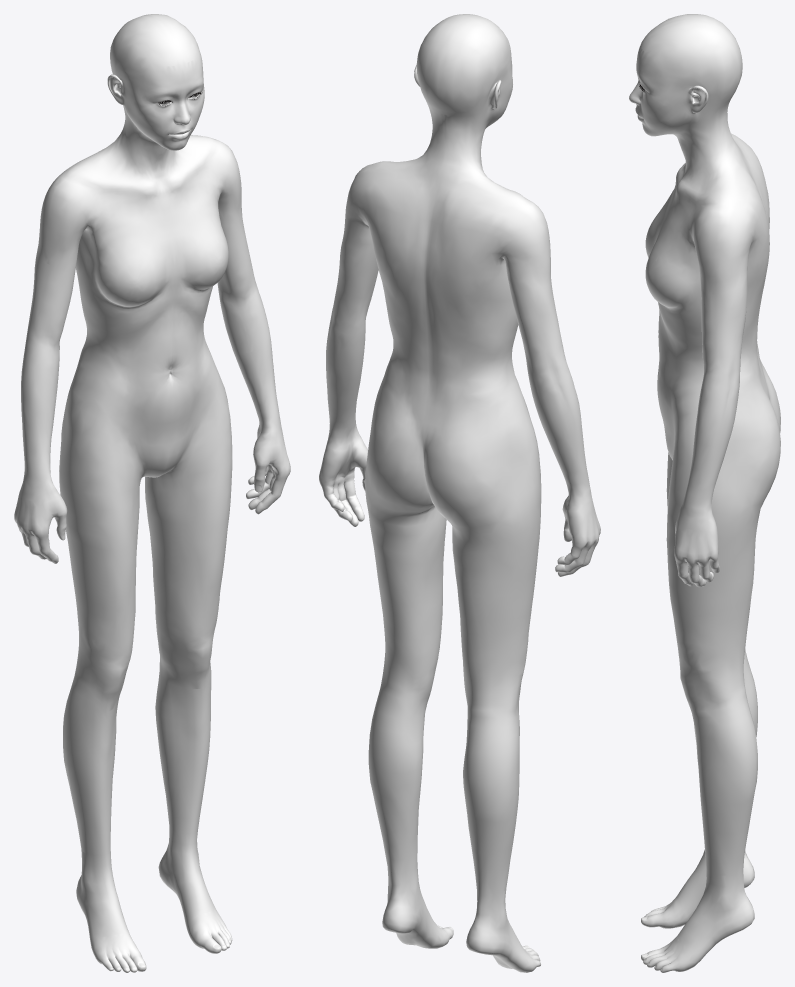
The model's file is avatar-s.fbx.
3 views of the same model, side by side, from view 1: azimuth 30°, elevation 25°; view 2: azimuth 150°, elevation 25°; view 3: azimuth 270°, elevation 25° (orthographic).
Visible parts, largest first — view 1: bodyShape_skin_Shape; view 2: bodyShape_skin_Shape; view 3: bodyShape_skin_Shape.
Boxes of the visible parts, box(x1,y1,x2,y2) form: bodyShape_skin_Shape: box(14, 14, 290, 972); bodyShape_skin_Shape: box(319, 14, 600, 972); bodyShape_skin_Shape: box(629, 14, 780, 972).
Size of the model in its own units: 55.72 by 186 by 27.6.
